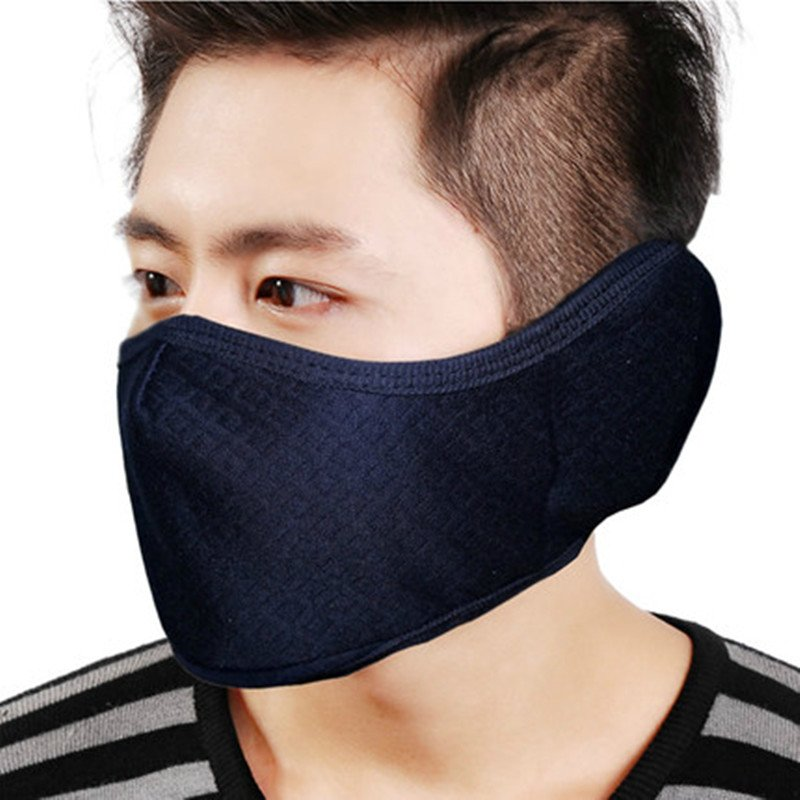face_mask: (117, 50, 537, 662)
